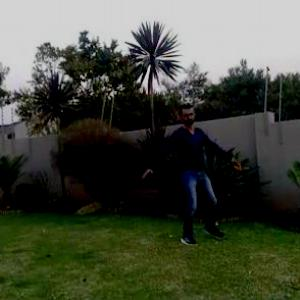land: (123, 100, 245, 249)
